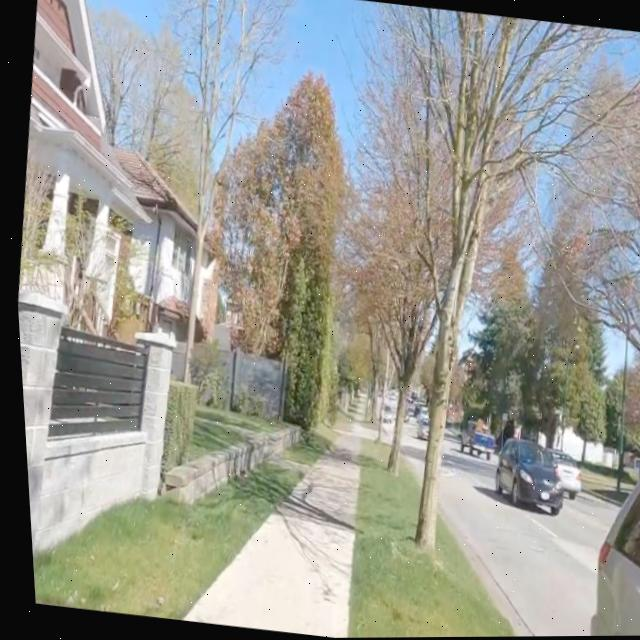Automobile: (581, 473, 640, 637), (489, 440, 557, 516), (546, 450, 574, 500), (454, 420, 488, 459)
Road: (433, 440, 609, 637), (433, 442, 609, 637), (397, 438, 418, 483)
Sidewalk: (173, 423, 365, 638), (174, 457, 352, 638)
